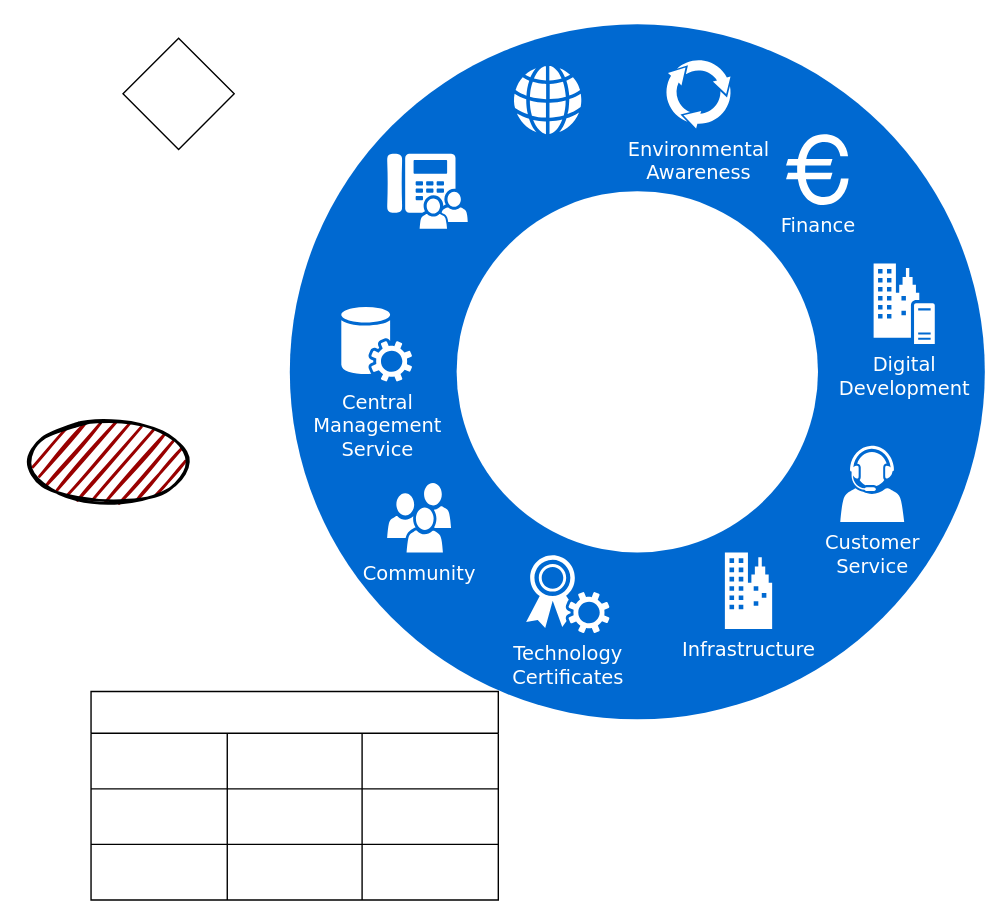
The diagram is 1008 pixels wide and 924 high, and some of its shapes have lost their labels. Each missing label, with the centre of its shape:
"Enterprise Business Model" goes at pixel 636 371.
"Global Partnerships" goes at pixel 547 99.
"Response Group" goes at pixel 426 190.
"Table" goes at pixel 294 795.
